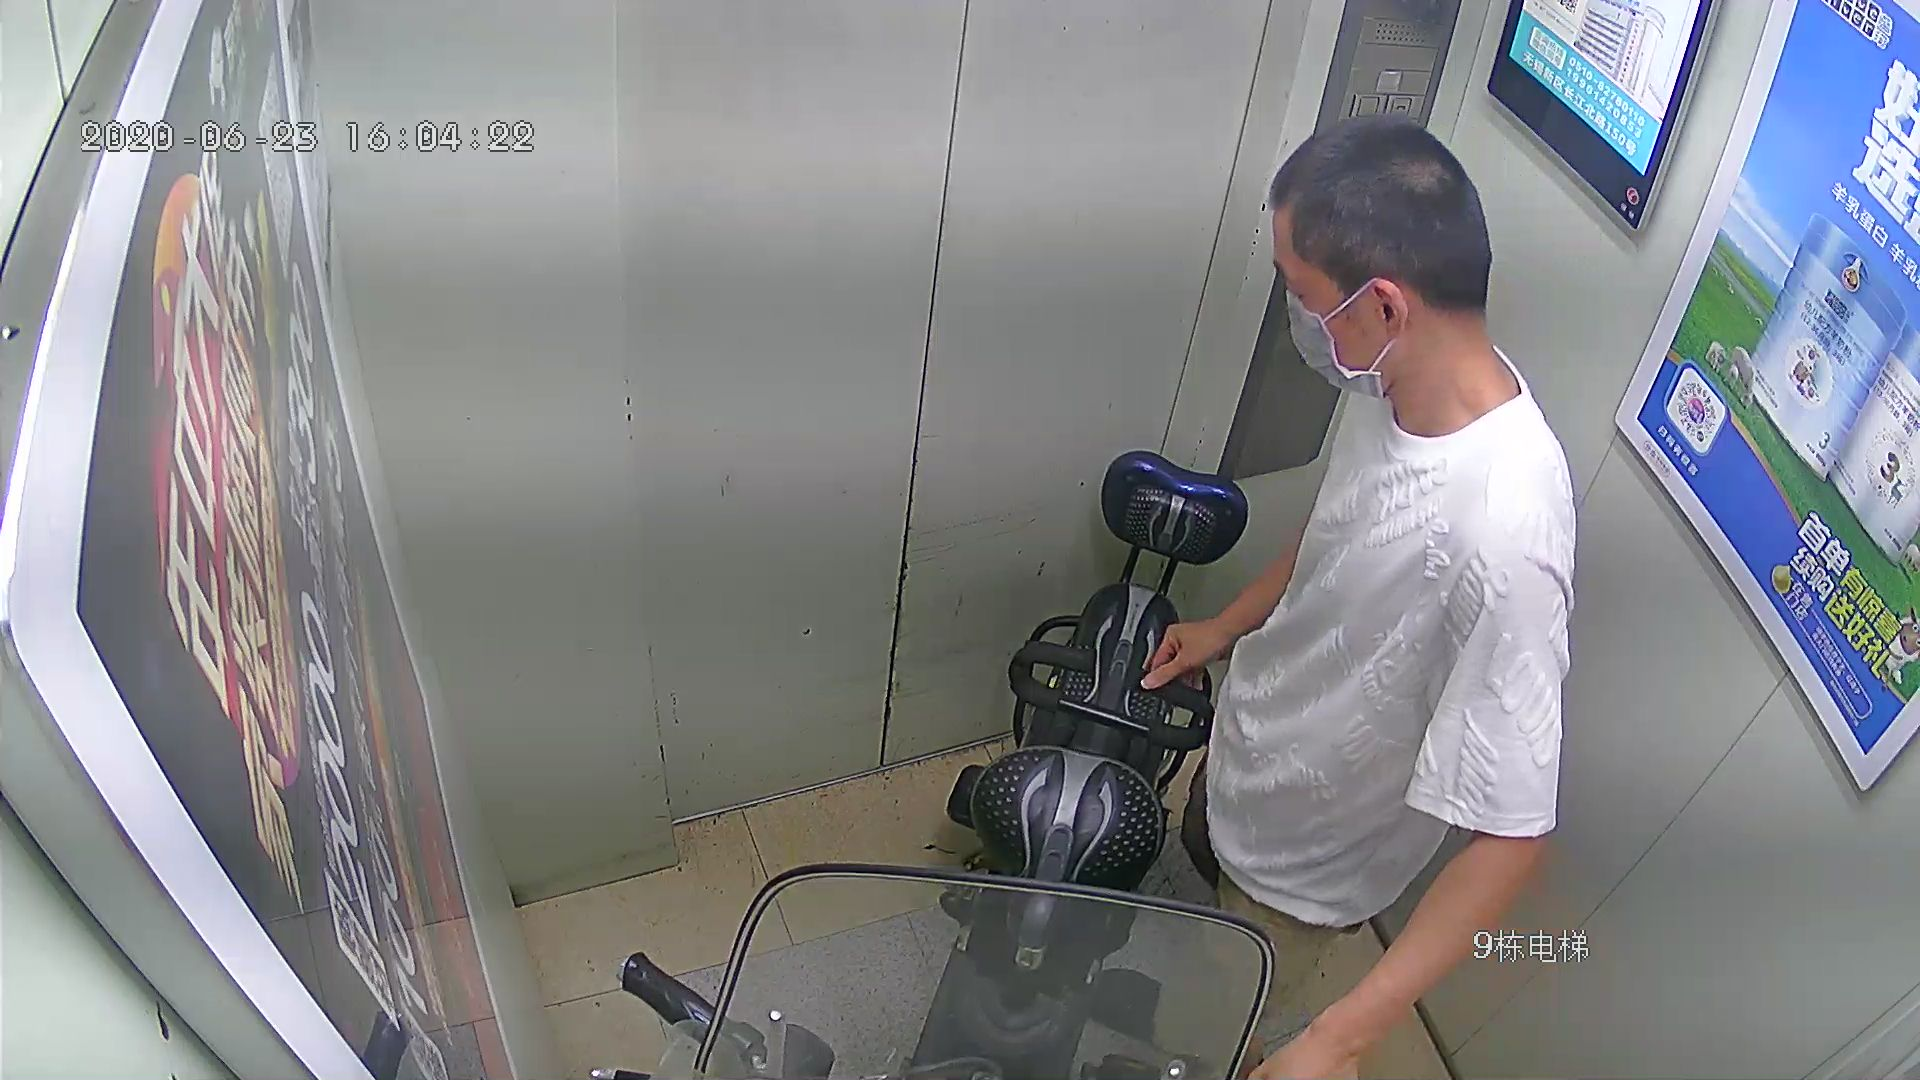Electric-bicycle: (616, 462, 1249, 1080)
